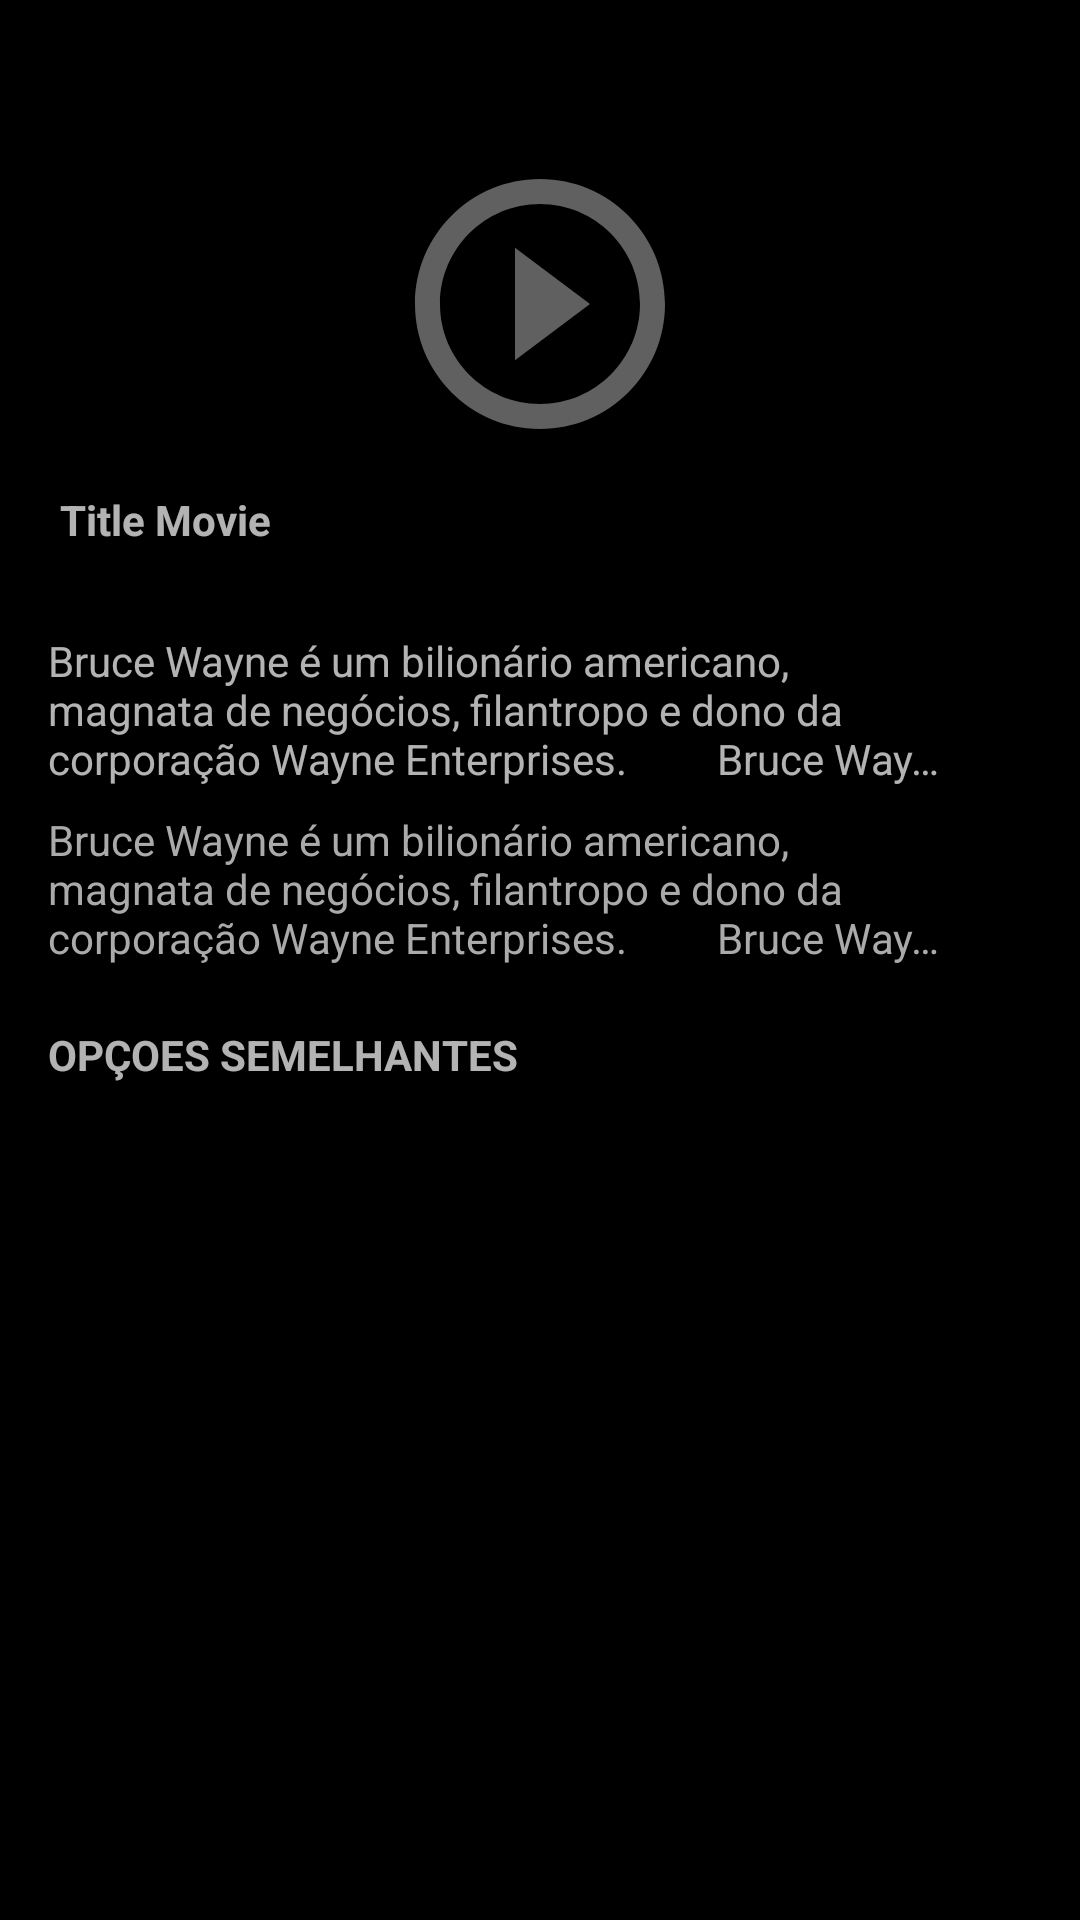

Icon click points for this 1080w x 1920h phone screenshot, format (x,y):
play circle: (540,304)
